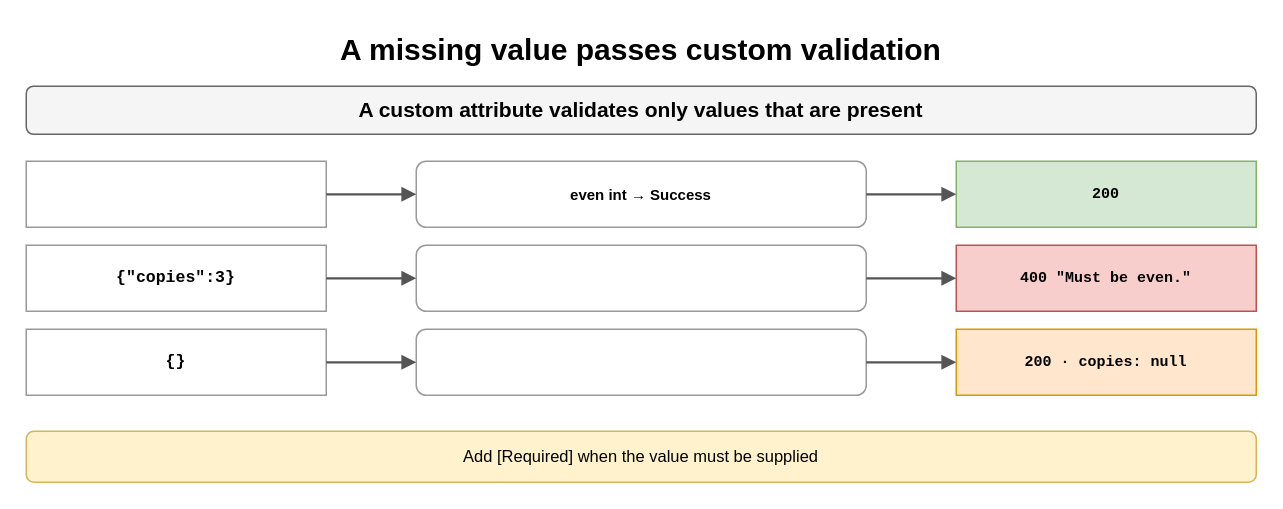
Some shapes in this 1283 by 509 pixel diagram are drawn without their labels. Here are the shapes that lost their labels. From the top down, the centre of each, then its label:
(175,193): {"copies":4}
(640,277): odd int
(640,361): null is not an int → Success
